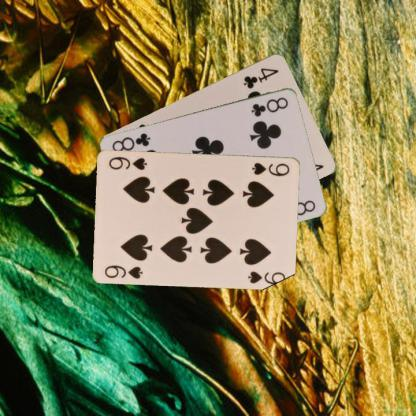4c: (240, 65, 281, 90)
8c: (249, 94, 290, 118)
9s: (102, 262, 144, 280), (250, 160, 291, 178)
